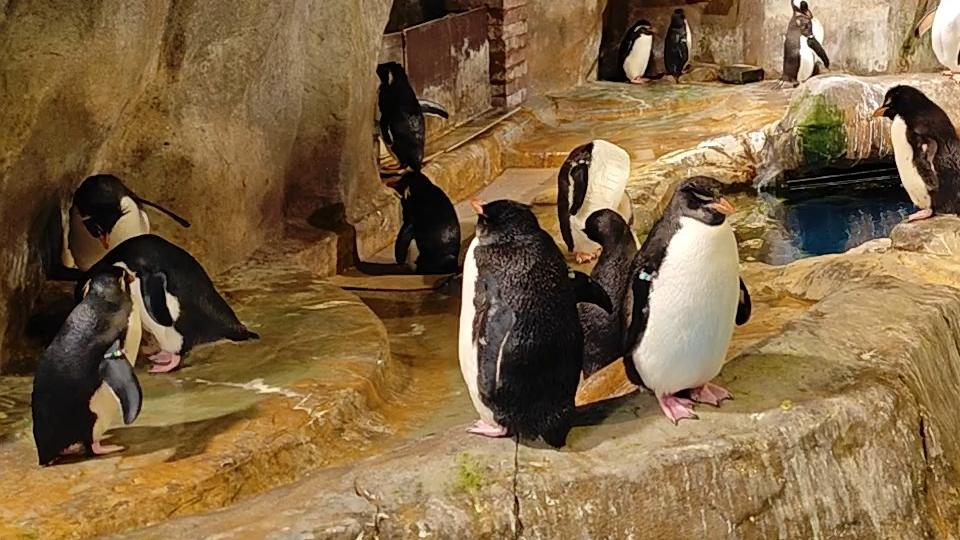Southern Rockhopper Penguin: (450, 190, 582, 455), (623, 169, 757, 429), (26, 263, 153, 473), (83, 233, 273, 373), (864, 82, 960, 230), (64, 174, 195, 280), (367, 53, 456, 176), (376, 170, 462, 283), (607, 13, 659, 86), (657, 7, 700, 83)
